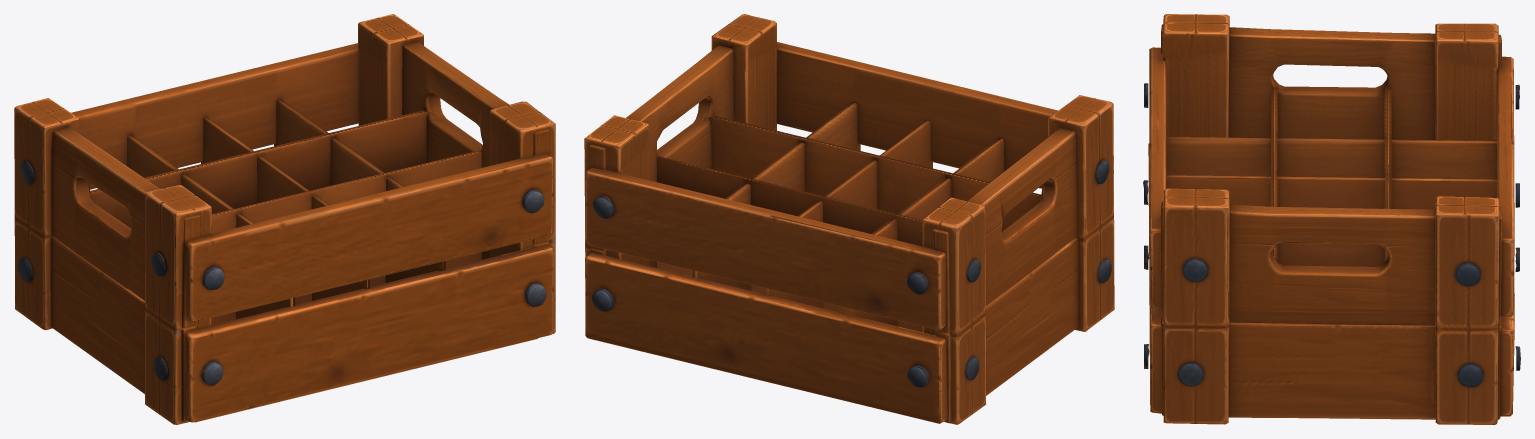
File: wine_crate.glb
The picture shows the model from 3 angles, left to right: view 1: azimuth 30°, elevation 25°; view 2: azimuth 150°, elevation 25°; view 3: azimuth 270°, elevation 25°; orthographic projection. The views are drawn at different scales.
Bounding box in the file's own units: 1 × 0.5352 × 0.8223.
1 material, 1 textured.
